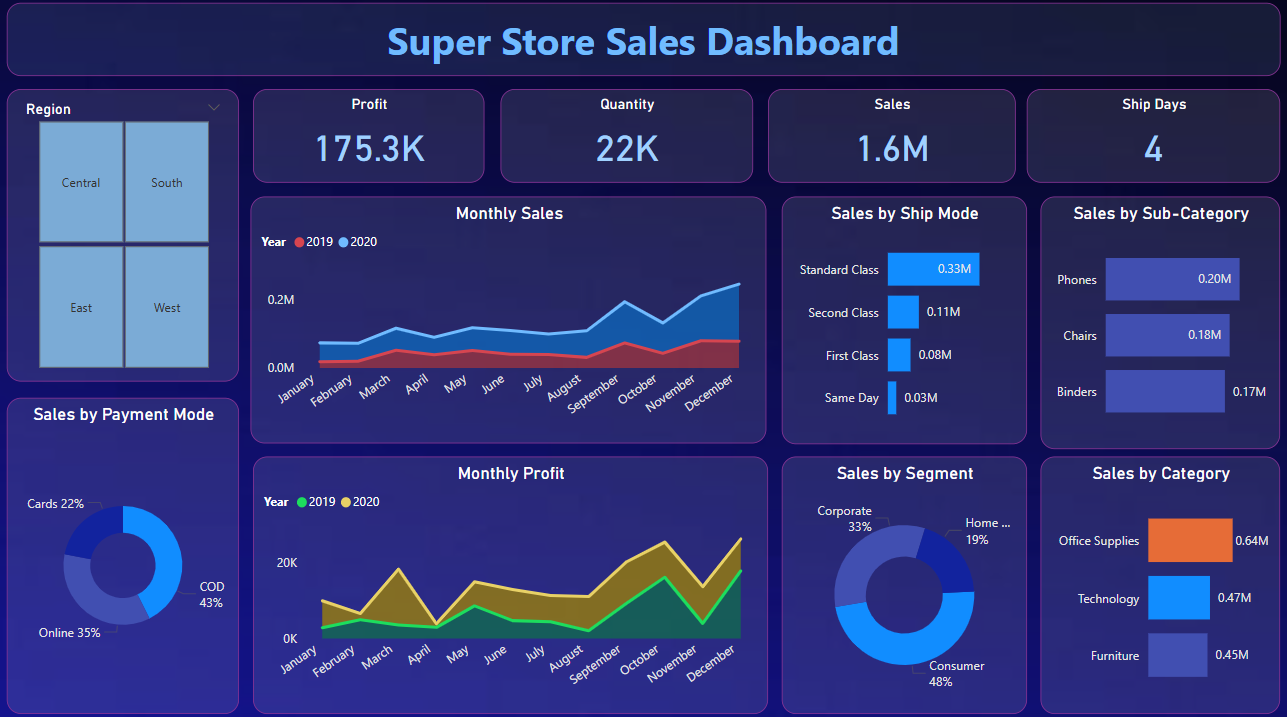

Layout of this report page (visuals, bound fields, positions):
{"tool":"powerbi","page":{"name":"dashboard","canvas":[1280,720],"ordinal":0},"visuals":[{"type":"clusteredBarChart","title":" Sales by Category","fields":{"Category":["SuperStore_Sales_Dataset.Category"],"Y":["Sum(SuperStore_Sales_Dataset.Sales)"]},"box":[1028.2,454,235.6,252.8],"z":0},{"type":"clusteredBarChart","title":" Sales by Sub-Category","fields":{"Category":["SuperStore_Sales_Dataset.Sub-Category"],"Y":["Sum(SuperStore_Sales_Dataset.Sales)"]},"box":[1028.2,198.8,235.6,247.9],"z":1000},{"type":"clusteredBarChart","title":" Sales by Ship Mode","fields":{"Category":["SuperStore_Sales_Dataset.Ship Mode"],"Y":["Sum(SuperStore_Sales_Dataset.Sales)"]},"box":[774.2,198.8,240.5,242.9],"z":2000},{"type":"stackedAreaChart","title":"Monthly Sales ","fields":{"Y":["Sum(SuperStore_Sales_Dataset.Sales)"],"Category":["SuperStore_Sales_Dataset.Order Date.Variation.Date Hierarchy.Month","SuperStore_Sales_Dataset.Order Date.Variation.Date Hierarchy.Day"],"Series":["SuperStore_Sales_Dataset.Order Date.Variation.Date Hierarchy.Year"]},"box":[253.4,199.1,506.7,242.5],"z":3000},{"type":"stackedAreaChart","title":"Monthly Profit","fields":{"Category":["SuperStore_Sales_Dataset.Order Date.Variation.Date Hierarchy.Month","SuperStore_Sales_Dataset.Order Date.Variation.Date Hierarchy.Day"],"Series":["SuperStore_Sales_Dataset.Order Date.Variation.Date Hierarchy.Year"],"Y":["Sum(SuperStore_Sales_Dataset.Profit)"]},"box":[255.2,454,505.5,252.8],"z":4000},{"type":"donutChart","title":"Sales by Segment","fields":{"Category":["SuperStore_Sales_Dataset.Segment"],"Y":["Sum(SuperStore_Sales_Dataset.Sales)"]},"box":[774.2,454,240.5,252.8],"z":6000},{"type":"donutChart","title":" Sales by Payment Mode","fields":{"Category":["SuperStore_Sales_Dataset.Payment Mode"],"Y":["Sum(SuperStore_Sales_Dataset.Sales)"]},"box":[13.3,395.7,228,310.1],"z":7000},{"type":"slicer","fields":{"Values":["SuperStore_Sales_Dataset.Region"]},"box":[0,90.8,241.7,289.6],"z":8000},{"type":"textbox","box":[13.5,8.6,1250.3,72.4],"z":9000},{"type":"card","title":"Sales","fields":{"Values":["Sum(SuperStore_Sales_Dataset.Sales)"]},"box":[760.7,93.3,242.9,92],"z":10000},{"type":"card","title":"Quantity","fields":{"Values":["Sum(SuperStore_Sales_Dataset.Quantity)"]},"box":[498.2,93.3,247.9,92],"z":11000},{"type":"card","title":"Profit","fields":{"Values":["Sum(SuperStore_Sales_Dataset.Profit)"]},"box":[255.2,93.3,227,92],"z":12000},{"type":"card","title":"Ship Days","fields":{"Values":["Avg(SuperStore_Sales_Dataset.avgDelivery)"]},"box":[1014.7,93.3,249.1,92],"z":13000}]}

Visuals, with their boxes in screenshot pixels (x1, y1, x2, y2), scaled from the page's 1280x720 canvas onto the 1287x717 screenshot:
" Sales by Category" clusteredBarChart: Rect(1034, 452, 1271, 704)
" Sales by Sub-Category" clusteredBarChart: Rect(1034, 198, 1271, 445)
" Sales by Ship Mode" clusteredBarChart: Rect(778, 198, 1020, 440)
"Monthly Sales " stackedAreaChart: Rect(255, 198, 764, 440)
"Monthly Profit" stackedAreaChart: Rect(257, 452, 765, 704)
"Sales by Segment" donutChart: Rect(778, 452, 1020, 704)
" Sales by Payment Mode" donutChart: Rect(13, 394, 243, 703)
slicer - SuperStore_Sales_Dataset.Region: Rect(0, 90, 243, 379)
textbox: Rect(14, 9, 1271, 81)
"Sales" card: Rect(765, 93, 1009, 185)
"Quantity" card: Rect(501, 93, 750, 185)
"Profit" card: Rect(257, 93, 485, 185)
"Ship Days" card: Rect(1020, 93, 1271, 185)
